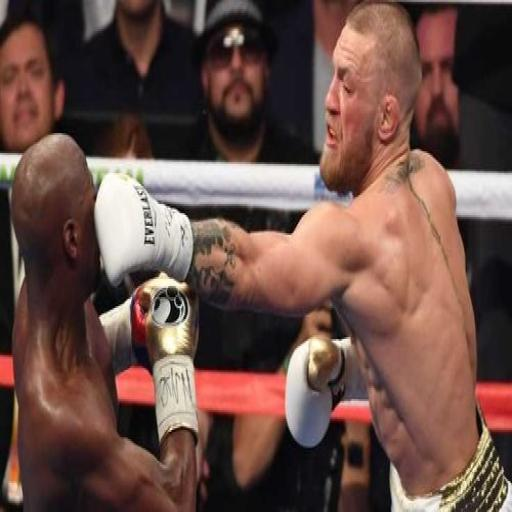boxing: (92, 2, 510, 508), (6, 96, 236, 509)
